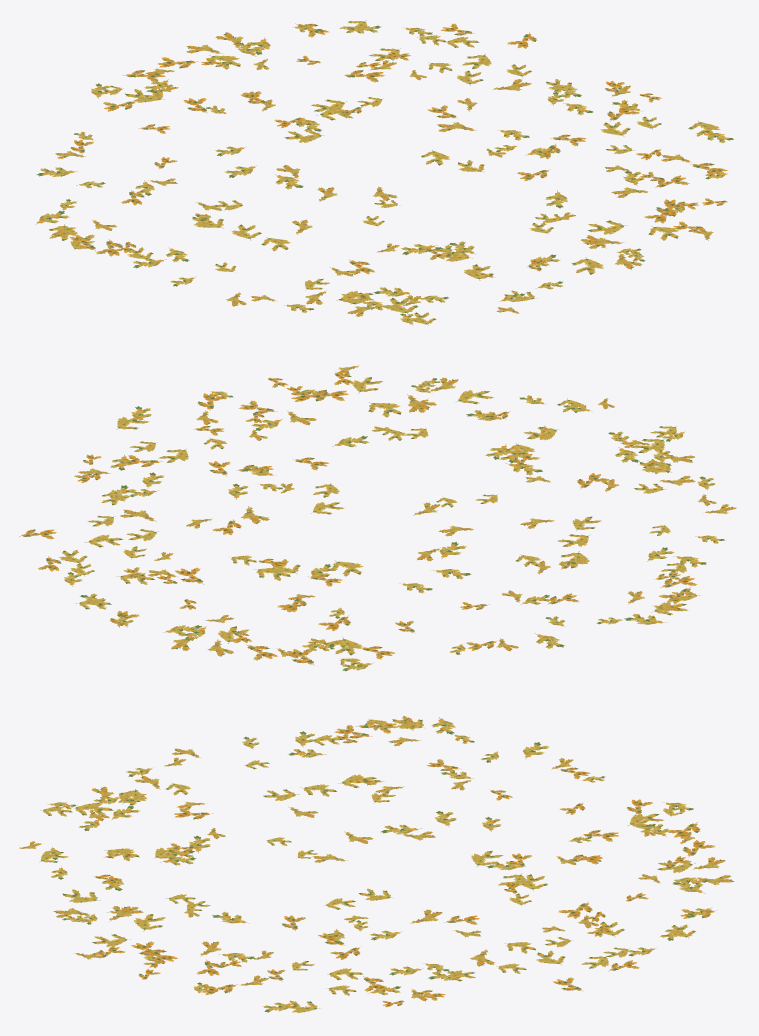
File: bouleau_adulte_c.fbx
3 views of the same model, one above another, from view 1: azimuth 30°, elevation 25°; view 2: azimuth 150°, elevation 25°; view 3: azimuth 270°, elevation 25° (orthographic). The views are drawn at different scales.
Visible parts, largest first — view 1: bouleau_adulte_c_feuilles_sol; view 2: bouleau_adulte_c_feuilles_sol; view 3: bouleau_adulte_c_feuilles_sol.
Boxes of the visible parts, bbox=[...] form: bouleau_adulte_c_feuilles_sol: bbox=[35, 20, 733, 325]; bouleau_adulte_c_feuilles_sol: bbox=[19, 365, 736, 671]; bouleau_adulte_c_feuilles_sol: bbox=[19, 716, 734, 1012].
Size of what is drawn, in the model's own units: 6.98 by 0.00596 by 6.9.
